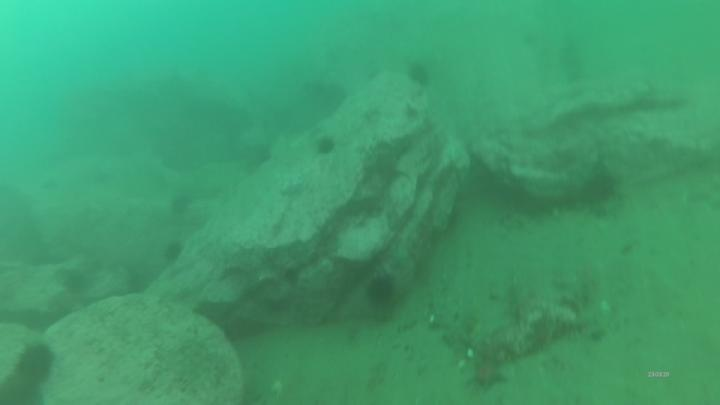echinus: (13, 348, 55, 379), (3, 381, 38, 405), (585, 175, 615, 201), (368, 278, 392, 308), (407, 63, 425, 81), (164, 242, 183, 259), (316, 138, 334, 152)
